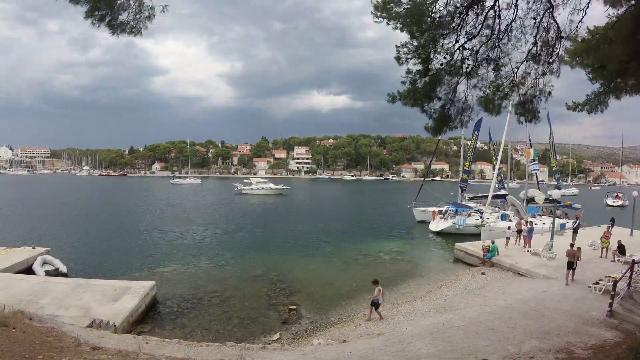Sailboat: (166, 170, 208, 190)
ferry: (230, 172, 292, 198)
